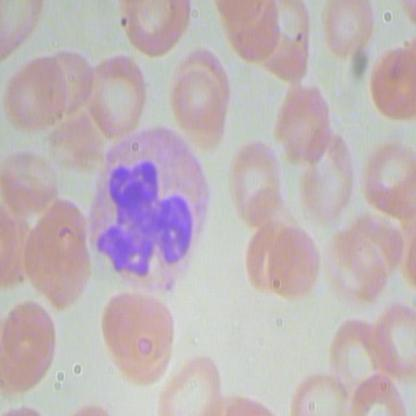WBC: (81, 124, 211, 298)
